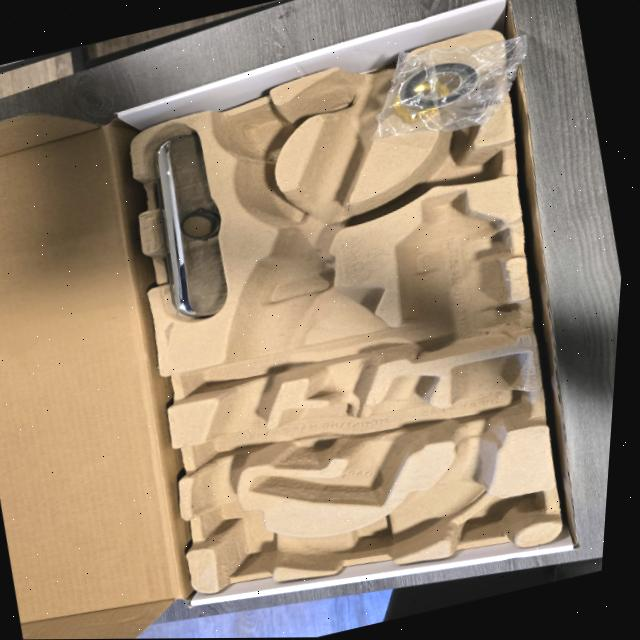1m: (188, 66, 524, 569)
2m: (258, 377, 433, 502)
3m: (393, 192, 511, 359)
4: (155, 135, 228, 316)
5m: (226, 106, 294, 158)
6: (365, 35, 528, 141)
7m: (382, 145, 492, 203)
